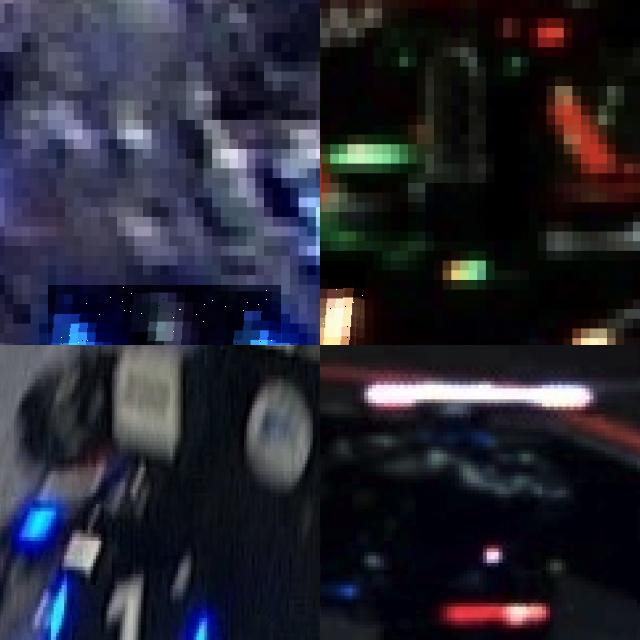B1: (47, 285, 281, 345), (43, 566, 209, 640)
Rs: (320, 260, 365, 345)
